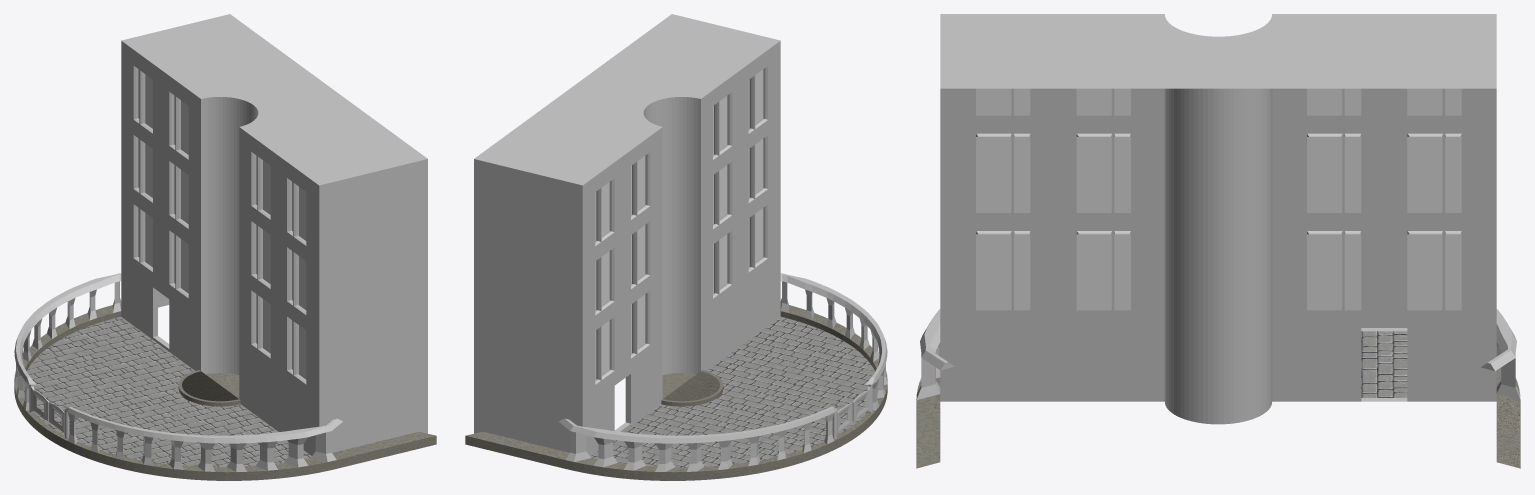
File: RoomFramev2.fbx
3 renders of one model, left to right at view 1: azimuth 30°, elevation 25°; view 2: azimuth 150°, elevation 25°; view 3: azimuth 270°, elevation 25°, orthographic. The views are drawn at different scales.
Visible parts, largest first — view 1: ExitWall.001, InnerWall; view 2: ExitWall.001, InnerWall; view 3: ExitWall.001, InnerWall.
Part boxes in pixels (x1,y1,x2,y2): ExitWall.001: (121,14,427,455); InnerWall: (14,273,436,480); ExitWall.001: (474,14,780,455); InnerWall: (465,273,887,480); ExitWall.001: (940,14,1496,424); InnerWall: (916,309,1520,468).
Bounding box in the file's own units: 864 × 806 × 1125.
